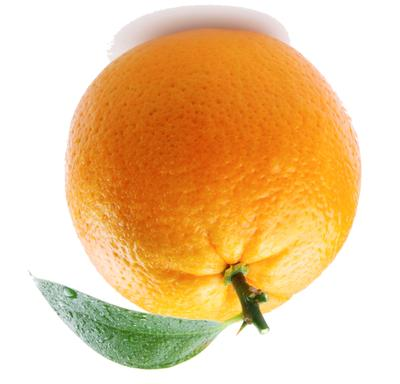orange: (0, 0, 400, 384)
